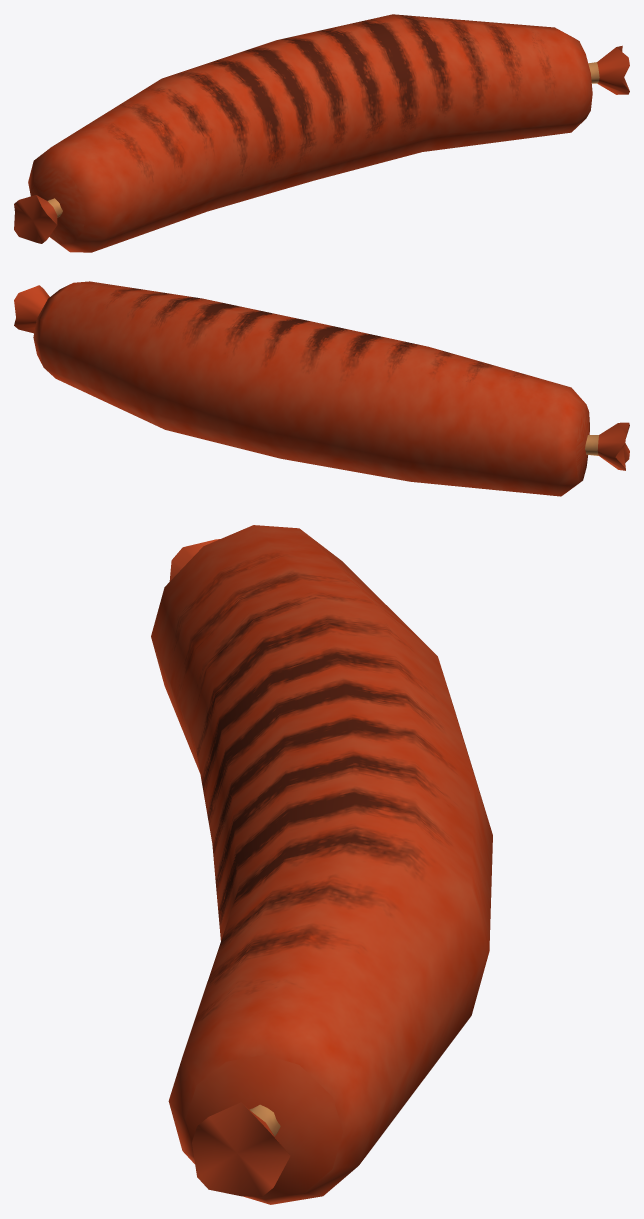
File: Sausage.glb
3 views of the same model, one above another, from view 1: azimuth 30°, elevation 25°; view 2: azimuth 150°, elevation 25°; view 3: azimuth 270°, elevation 25° (orthographic). The views are drawn at different scales.
Parts seen in each view (by area): view 1: Sausage; view 2: Sausage; view 3: Sausage.
Part boxes in pixels (bbox=[...]): Sausage: bbox=[14, 14, 629, 252]; Sausage: bbox=[14, 281, 629, 496]; Sausage: bbox=[151, 525, 492, 1204].
Bounding box in the file's own units: 1.33 × 0.2717 × 0.3262.
Materials: 1 (1 with a texture image).
